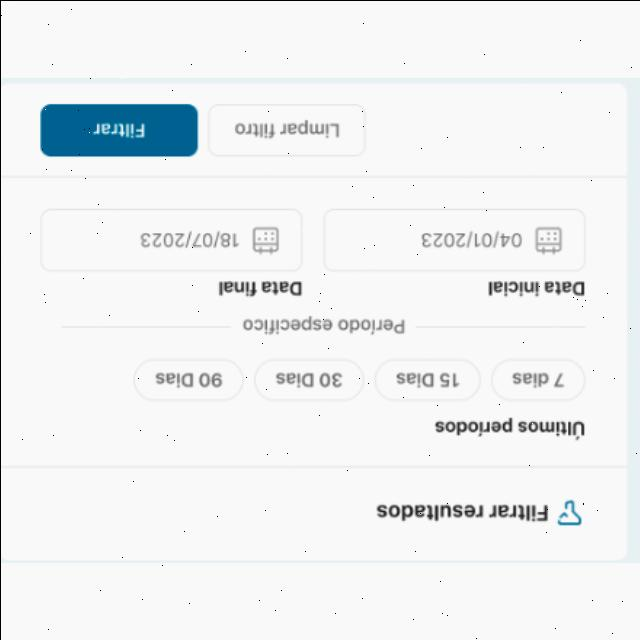QLabel: (434, 415, 586, 441), (376, 501, 550, 523), (241, 316, 407, 338), (232, 120, 342, 140), (486, 279, 584, 297), (215, 278, 302, 298), (153, 370, 223, 390), (273, 368, 341, 388), (392, 369, 458, 389), (509, 370, 566, 390), (90, 120, 146, 138)
VBtn: (207, 102, 367, 156), (41, 103, 198, 157)
VCard: (1, 82, 630, 562)
VChip: (132, 356, 245, 404), (253, 357, 364, 401), (374, 356, 481, 399), (490, 358, 586, 402)
VDivider: (0, 462, 628, 470), (1, 173, 630, 180), (414, 324, 588, 332), (58, 324, 234, 331)
VIcon: (556, 498, 584, 528)
VInlineDatepicker: (321, 207, 585, 273), (38, 207, 302, 273)
